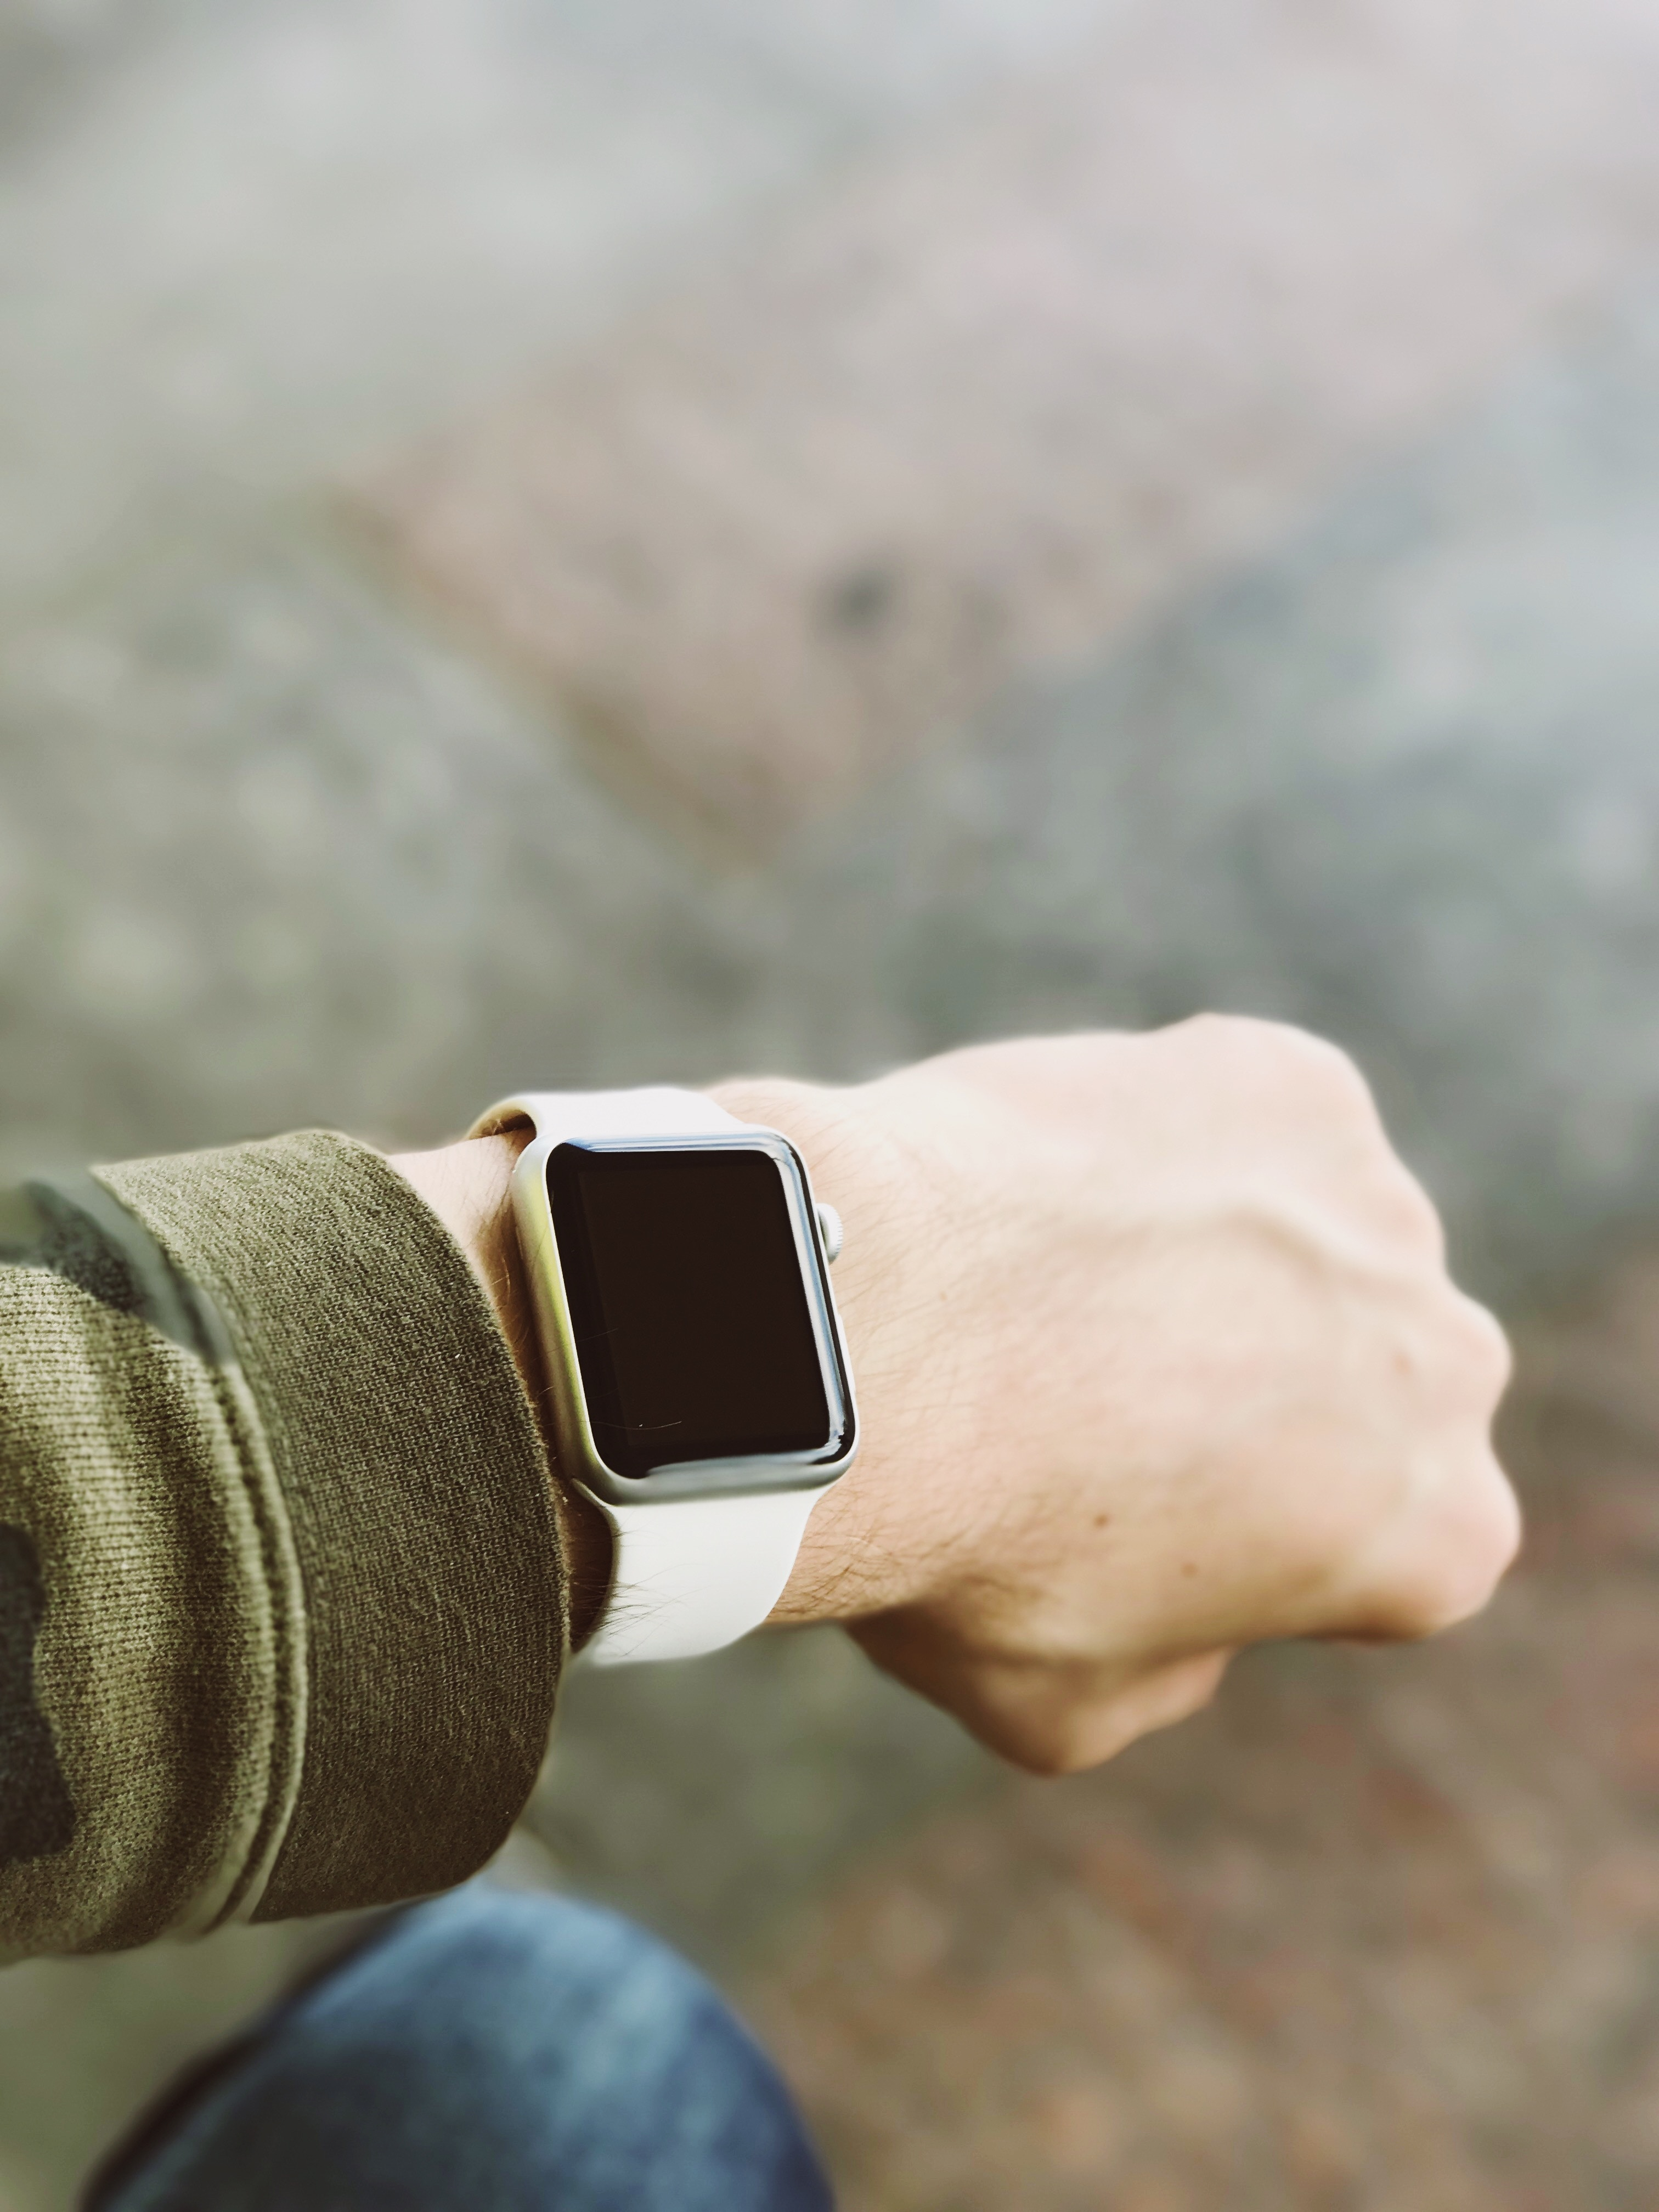fist: (864, 963, 1558, 1855)
